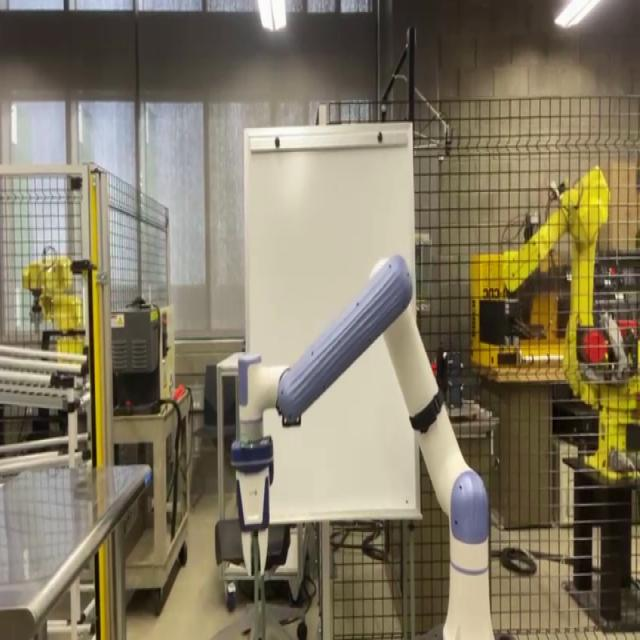robot: (217, 249, 500, 640)
